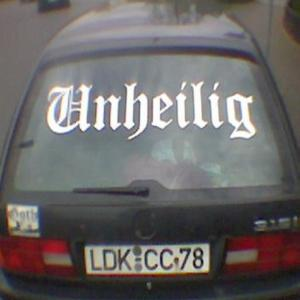Vehicle-registration-plate: (87, 245, 210, 275)
